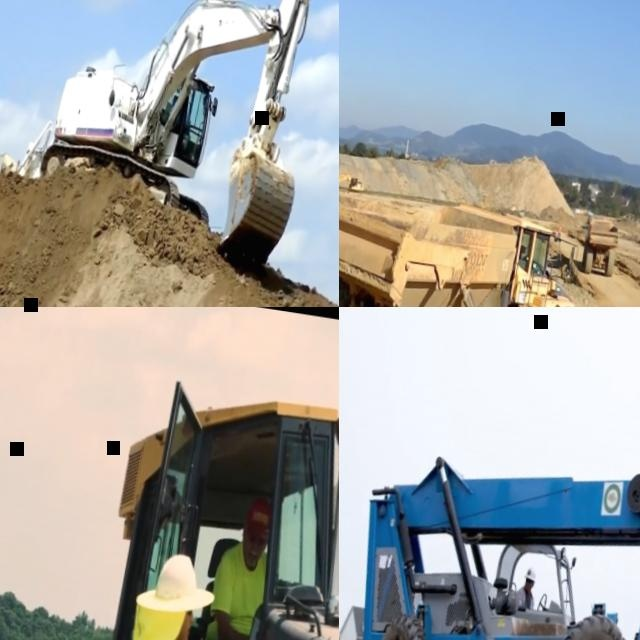Hardhat: (522, 564, 538, 581)
NO-Hardhat: (149, 548, 201, 616), (241, 493, 273, 532)
NO-Mask: (242, 541, 261, 569), (177, 619, 190, 640), (523, 582, 531, 590)
NO-Safety Vest: (203, 537, 269, 640), (515, 586, 535, 609), (558, 225, 561, 232)
Person: (185, 489, 279, 640), (99, 544, 228, 640), (164, 93, 194, 155), (514, 563, 539, 609), (517, 234, 529, 262), (557, 223, 562, 237)
machinery: (30, 0, 327, 276), (68, 354, 339, 640), (339, 422, 640, 640), (339, 178, 588, 307), (0, 109, 53, 185), (581, 214, 620, 276), (339, 168, 364, 193)
